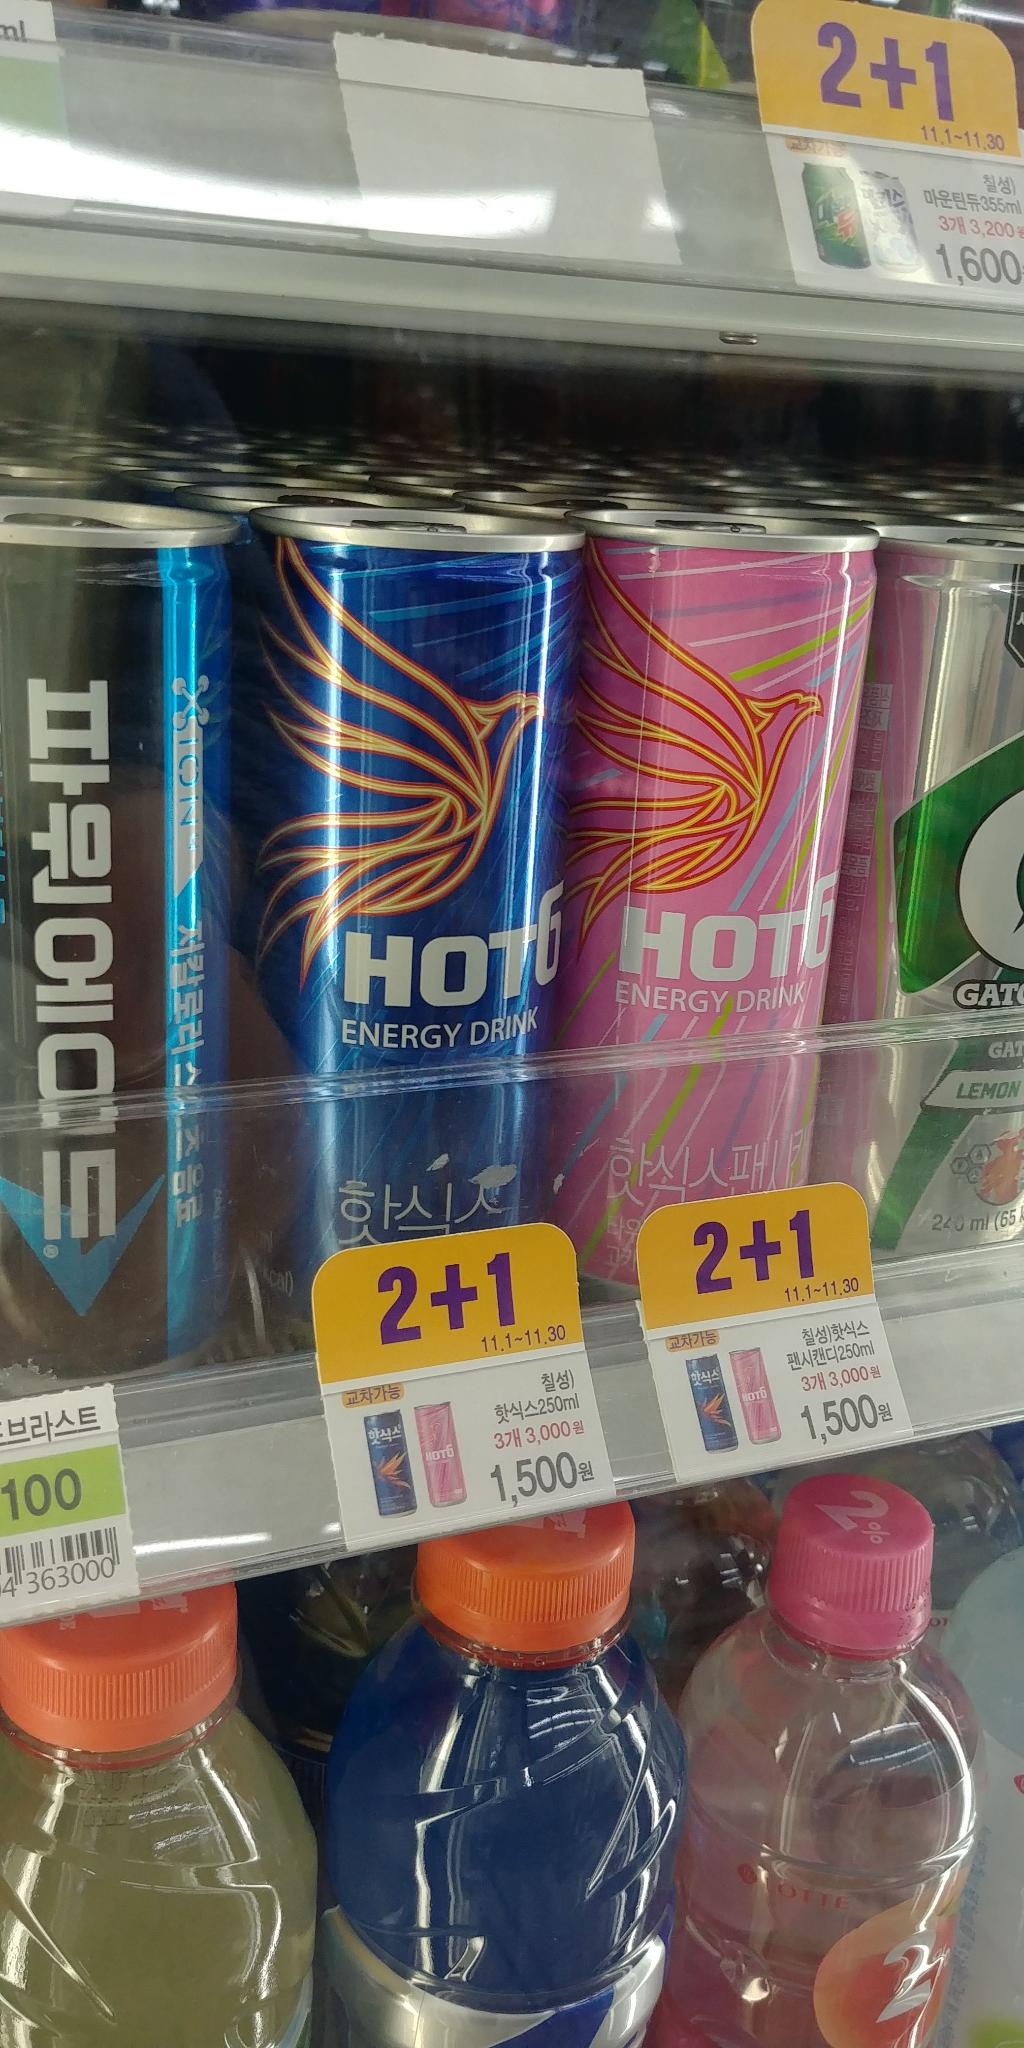hotsix_org: (242, 465, 566, 1373)
